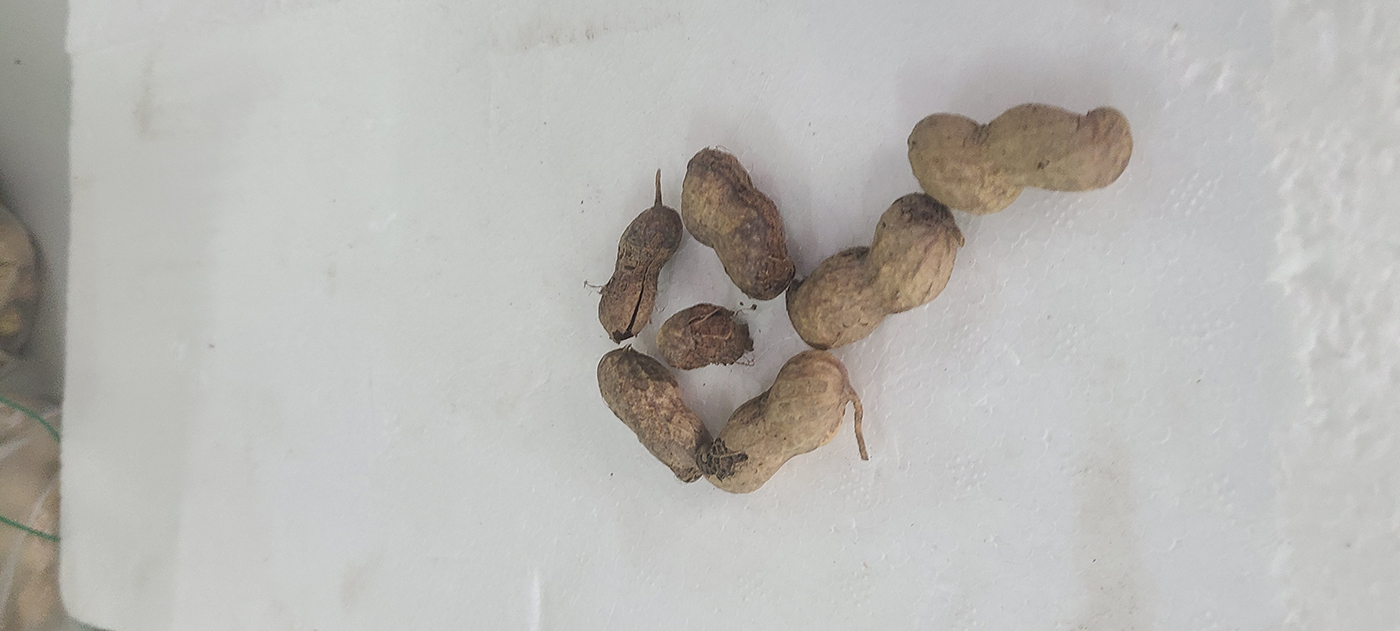l: (786, 194, 961, 350), (904, 102, 1133, 217), (709, 350, 850, 494), (681, 147, 793, 297), (596, 348, 711, 482), (596, 203, 683, 342)
